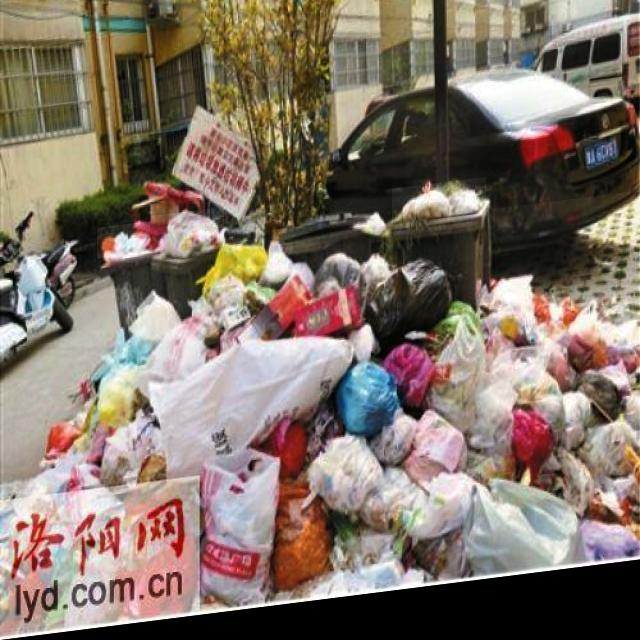garbage: (2, 208, 638, 638)
overflow: (392, 190, 486, 331), (150, 213, 224, 322), (97, 225, 154, 341)
